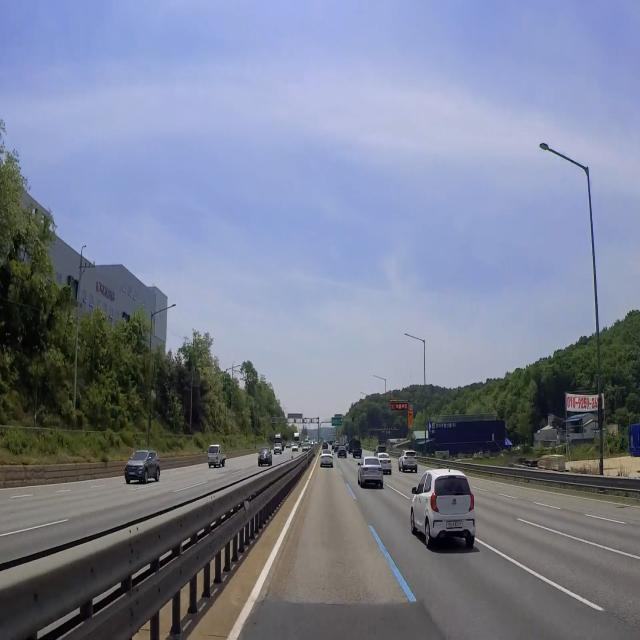car: (444, 519, 463, 531), (367, 468, 379, 475), (408, 461, 414, 466), (324, 460, 330, 464), (340, 453, 345, 457), (382, 462, 387, 465)
